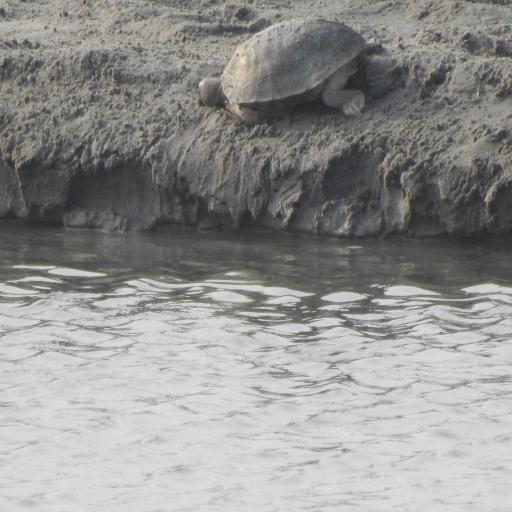turtle: (197, 6, 390, 133)
